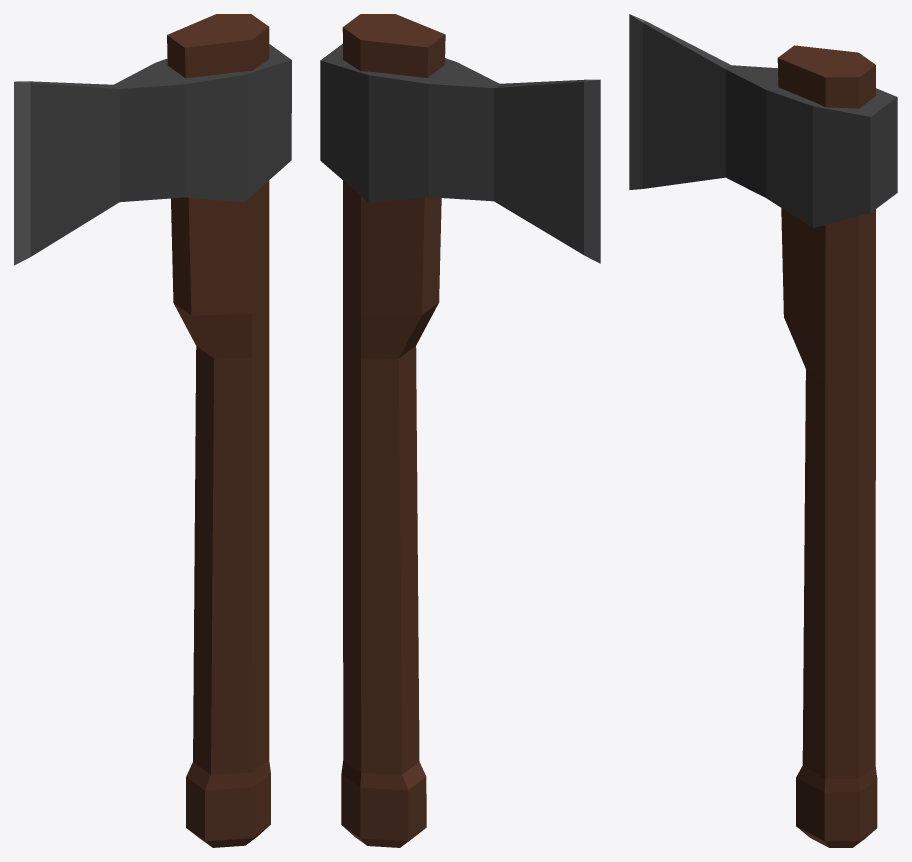
File: Axe_mat.fbx
3 views of the same model, side by side, from view 1: azimuth 30°, elevation 25°; view 2: azimuth 150°, elevation 25°; view 3: azimuth 330°, elevation 25° (orthographic). The views are drawn at different scales.
Visible parts, largest first — view 1: Axe_mat; view 2: Axe_mat; view 3: Axe_mat.
Part boxes in pixels (bbox=[...]): Axe_mat: bbox=[14, 14, 291, 847]; Axe_mat: bbox=[320, 14, 600, 847]; Axe_mat: bbox=[629, 14, 897, 847].
Bounding box in the file's own units: 12.57 × 36.72 × 3.33.
